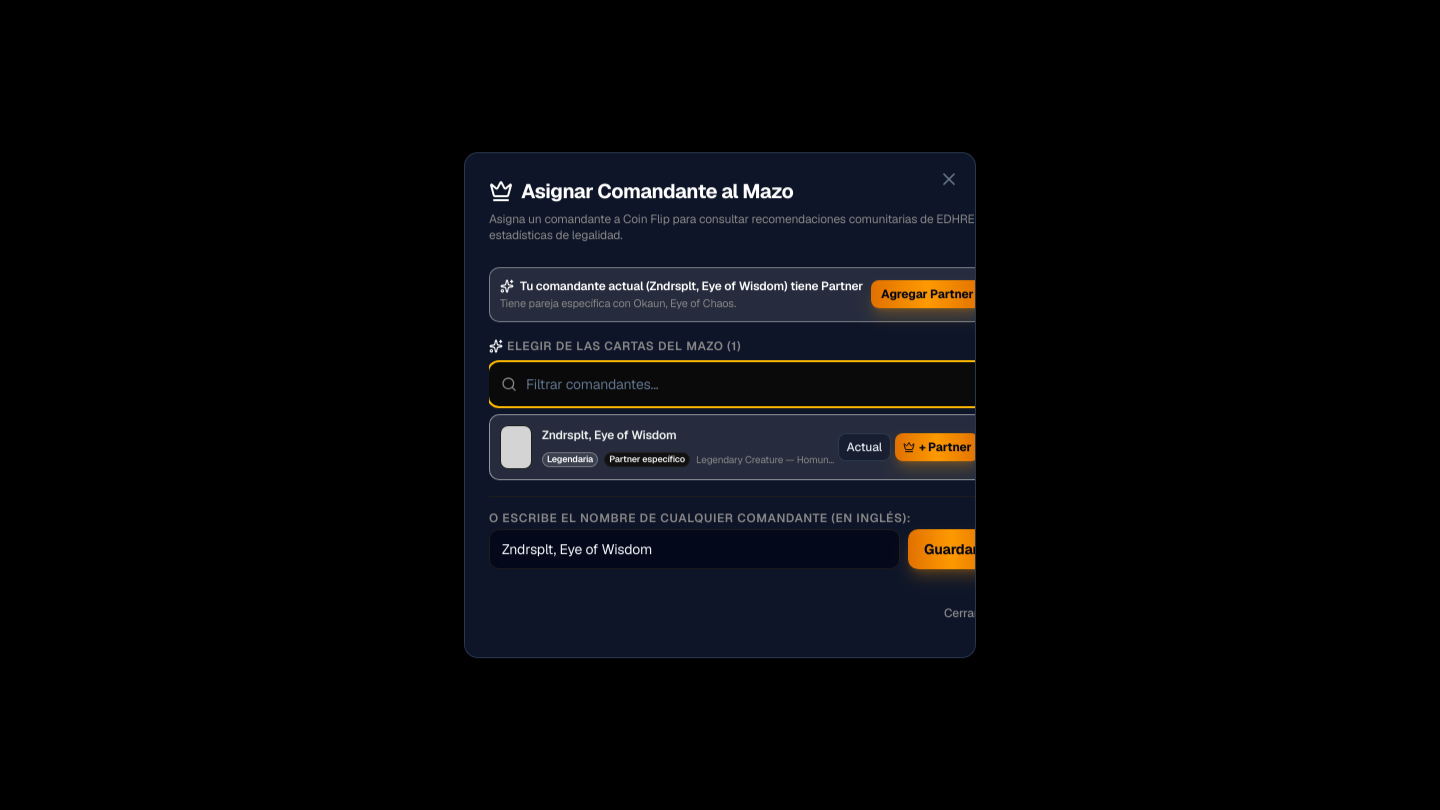
Test: SelectCommanderDialog Component › Partner and Specific Partner Support › should display a banner and '+ Partner' button when current commander has partner and is alone
expect the text "Tu comandante actual (Zndrsplt, Eye of Wisdom) tiene Partner" is shown: met, box [500,278,863,294]
// Clicking "+ Partner" launches partner selection
Click the button "+ Partner" at (937, 447), box [895,433,979,461]
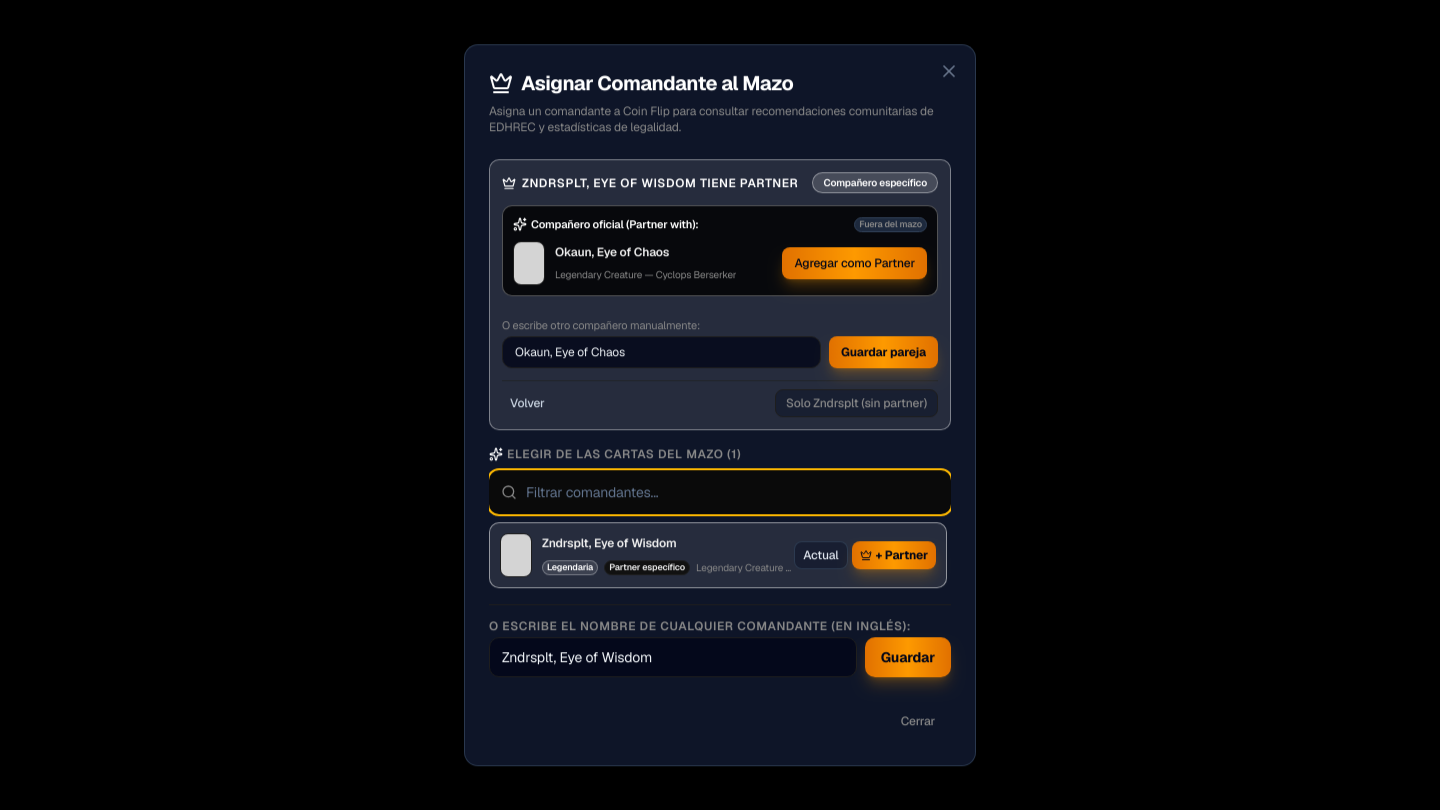
expect the text "Okaun, Eye of Chaos" is shown: met, box [555,244,669,260]
expect the text "Compañero oficial (Partner with):" is shown: met, box [513,216,698,233]
